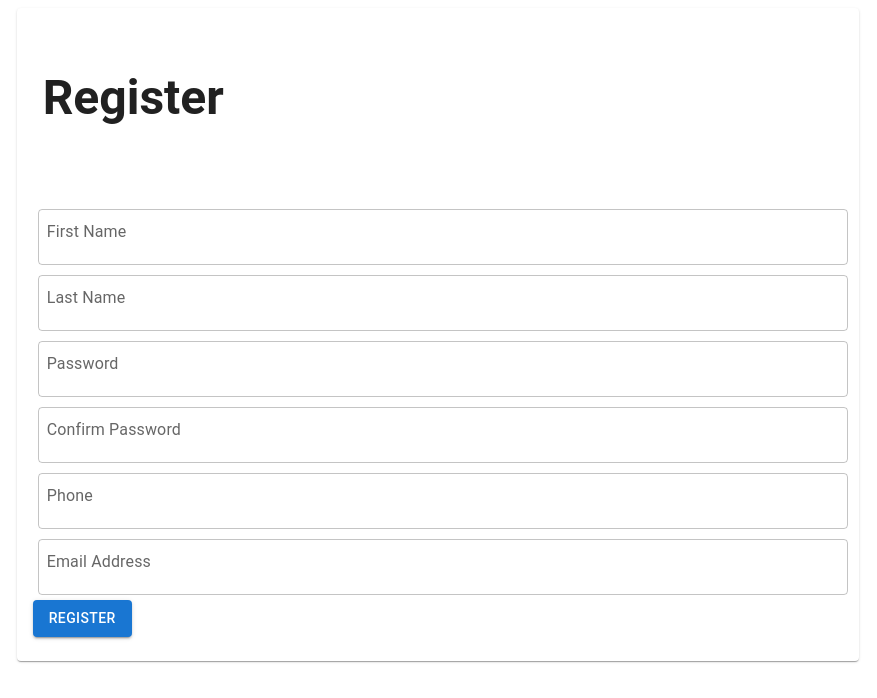
Test: Register › should display error if passwords do not match
Type "firstName" into the field labelled "First Name" at point(443, 237), box [38, 209, 848, 265]
Type "lastName" into the field labelled "Last Name" at point(443, 303), box [38, 275, 848, 331]
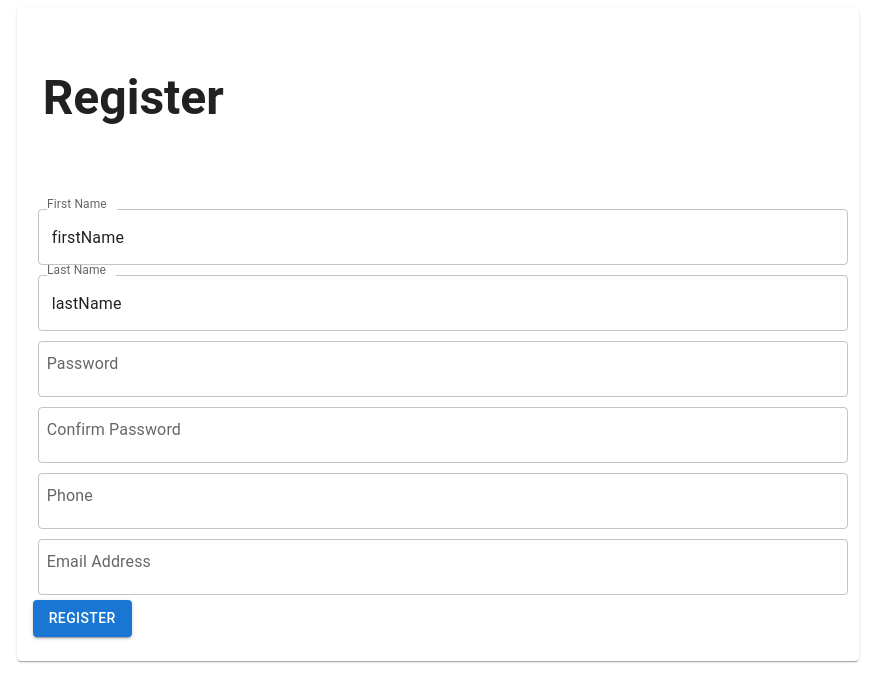
Type "emailAddress" into the field labelled "Email Address" at point(443, 567), box [38, 539, 848, 595]
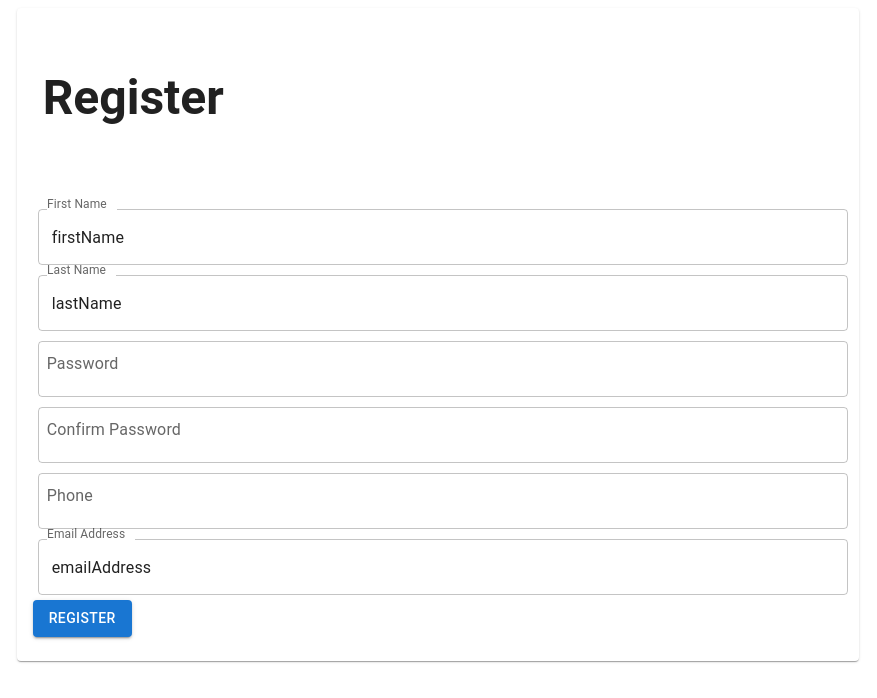
Type "somePhone" into the field labelled "Phone" at point(443, 501), box [38, 473, 848, 529]
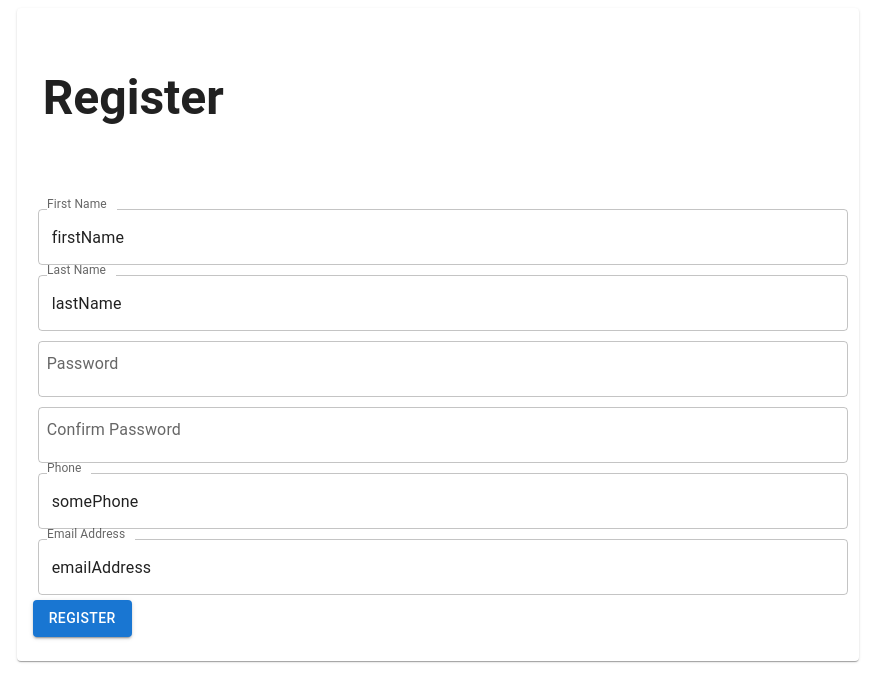
Type "passwords" into the password field labelled "Password" at point(443, 369), box [38, 341, 848, 397]
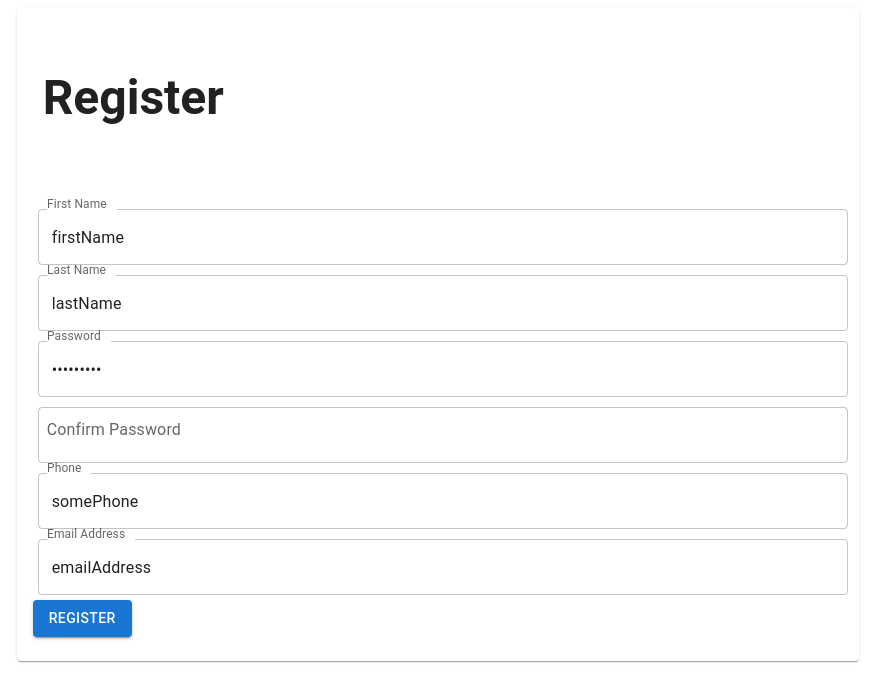
Type "password" into the password field labelled "Confirm Password" at point(443, 435), box [38, 407, 848, 463]
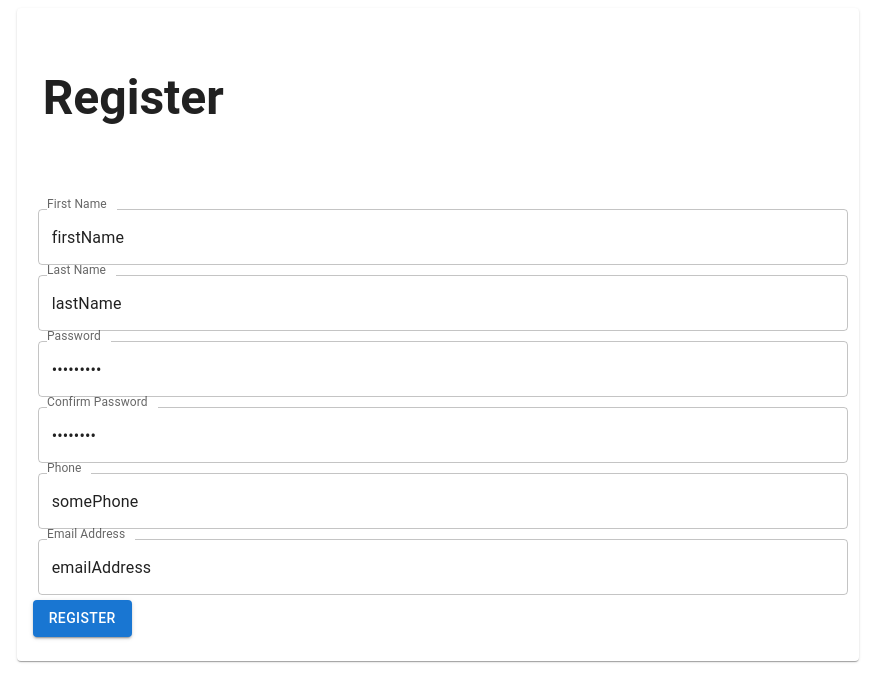
Click the button "Register" at point(82, 619), box [33, 600, 132, 637]
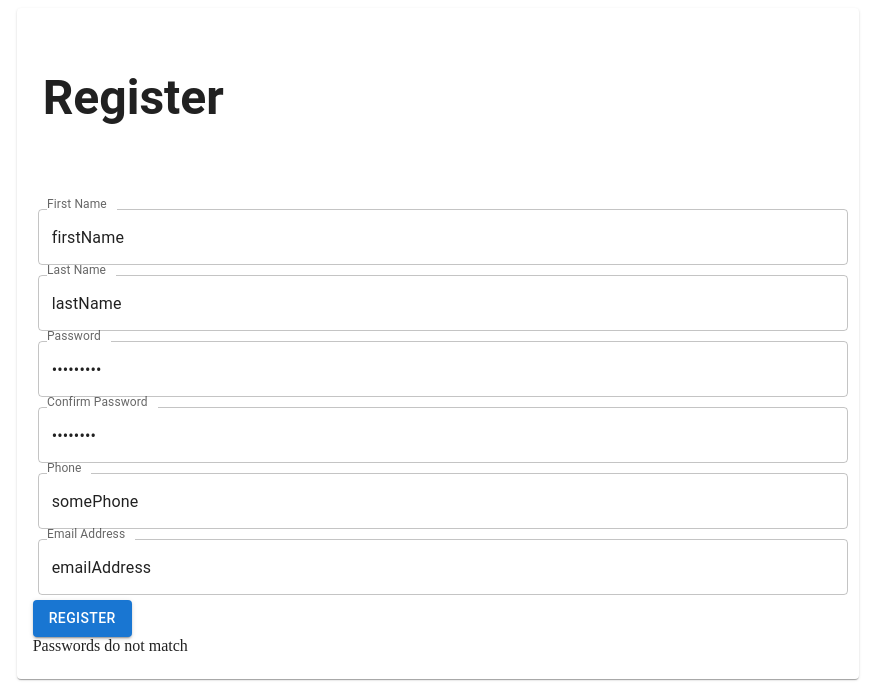
expect the text "Passwords do not match" is shown: met, box [33, 637, 188, 654]
